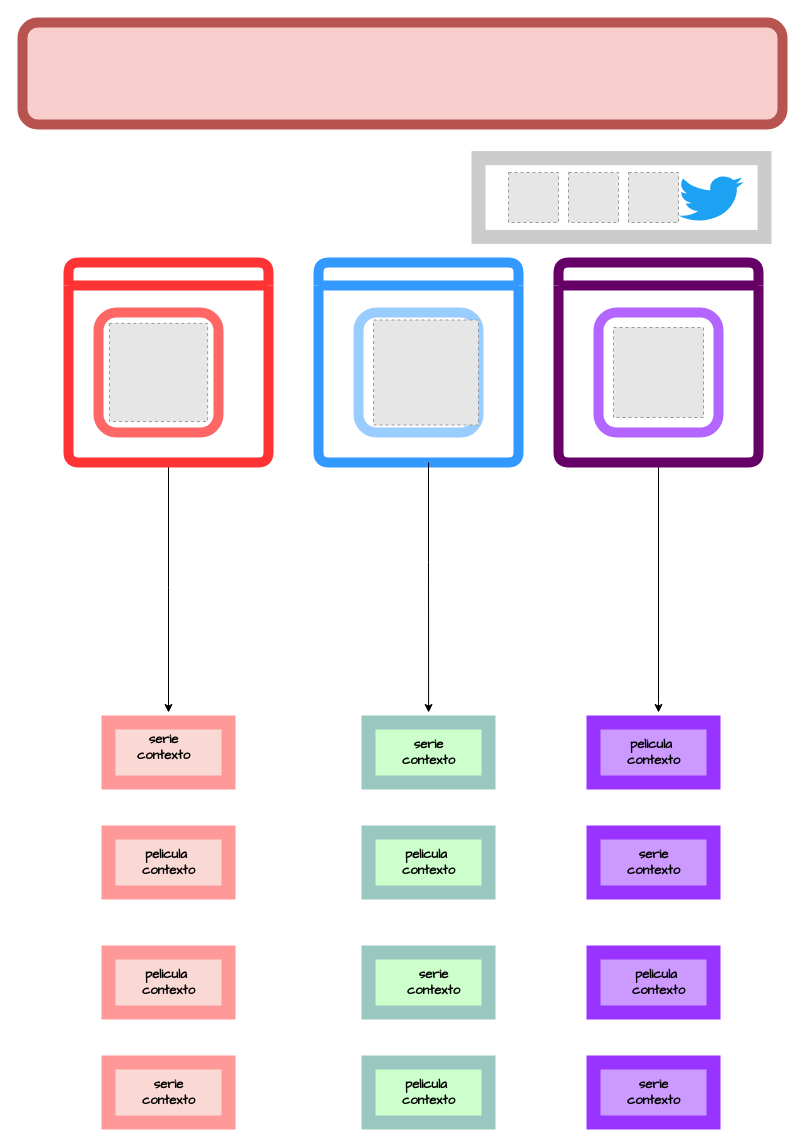
This 804x1146 diagram has some shape labels left out. Grey dashed boxes stand in for pictures. Here are the shapes that lost their labels. From the top down, the box of each, then its label:
(17, 17, 787, 129): Series y Películas favoritas de mis amistades
(63, 257, 273, 467): Netflix
(313, 257, 523, 467): Disney +
(553, 257, 763, 467): HBO MAX
